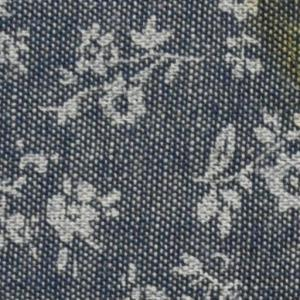Oil Stain: (247, 1, 300, 91)
